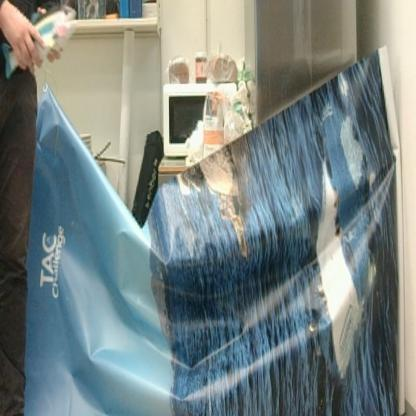rubberfish: (2, 1, 79, 83)
